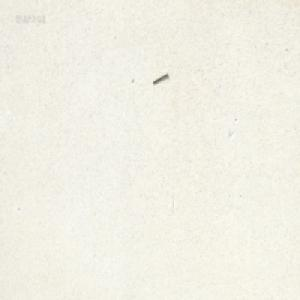Bolt: (151, 72, 167, 84)
